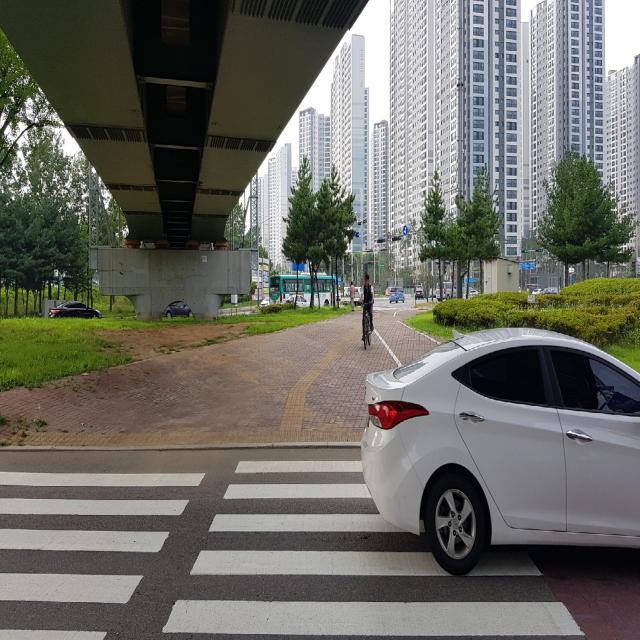횡단보도: (0, 455, 587, 640)
